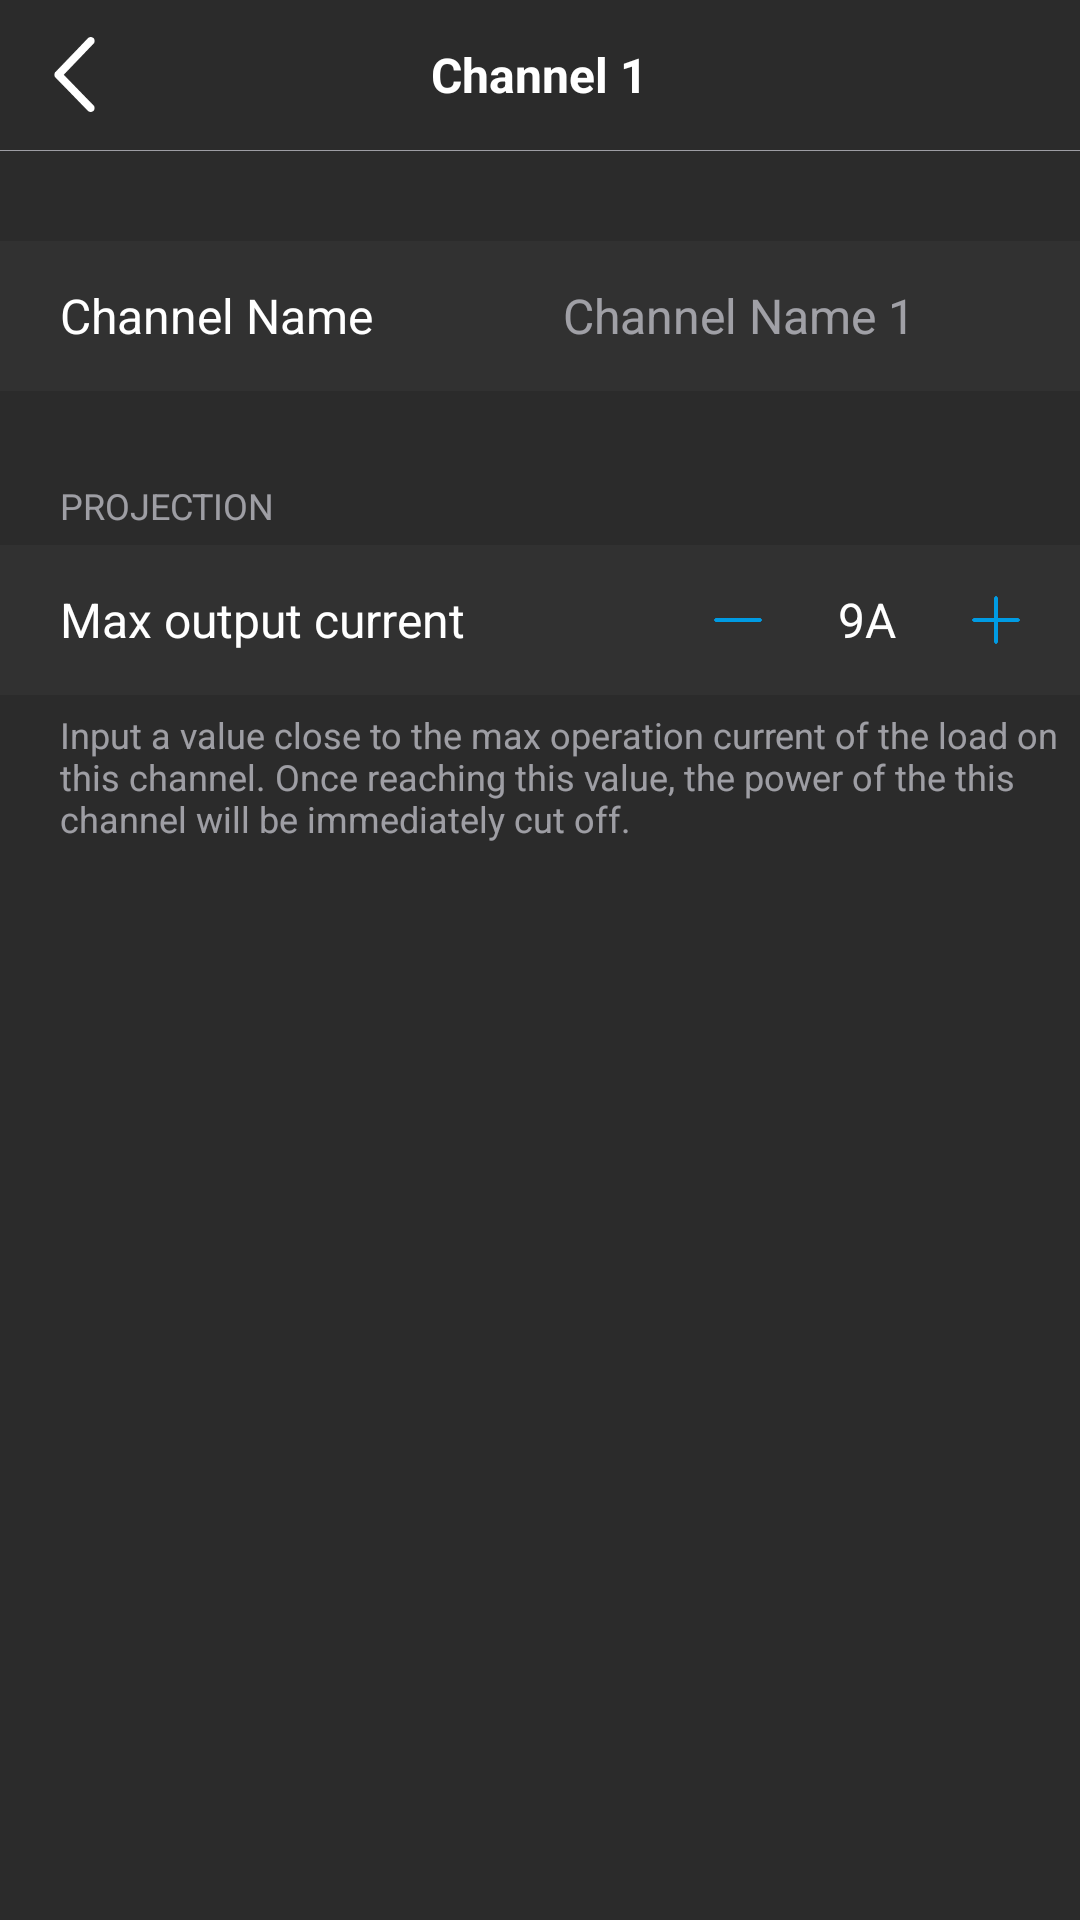

Icon click points for this 1080×1920 phone screenshot, format [x,y]:
left arrow: [74,74]
plus: [996,620]
